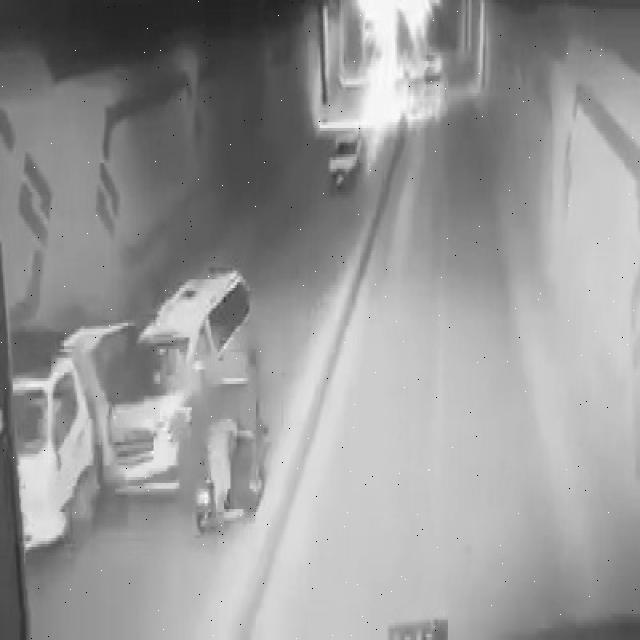accident: (103, 264, 275, 518)
